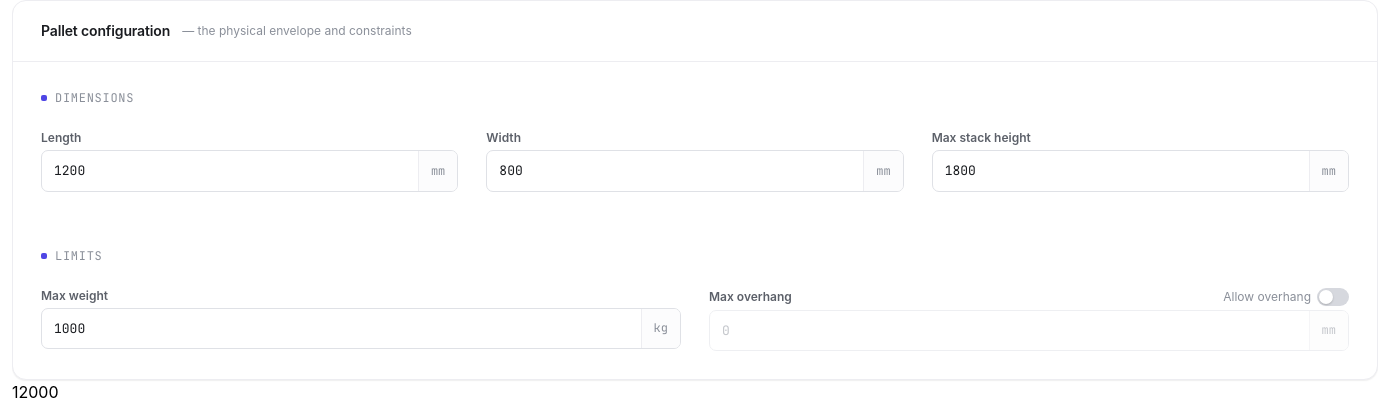
it: PalletCard — Allow-overhang switch gates Max overhang (#3) › toggling ON then OFF zeroes + disables the overhang input again
Click the switch named "Allow overhang". click: (1333, 296)
box: [1317,288,1349,306]
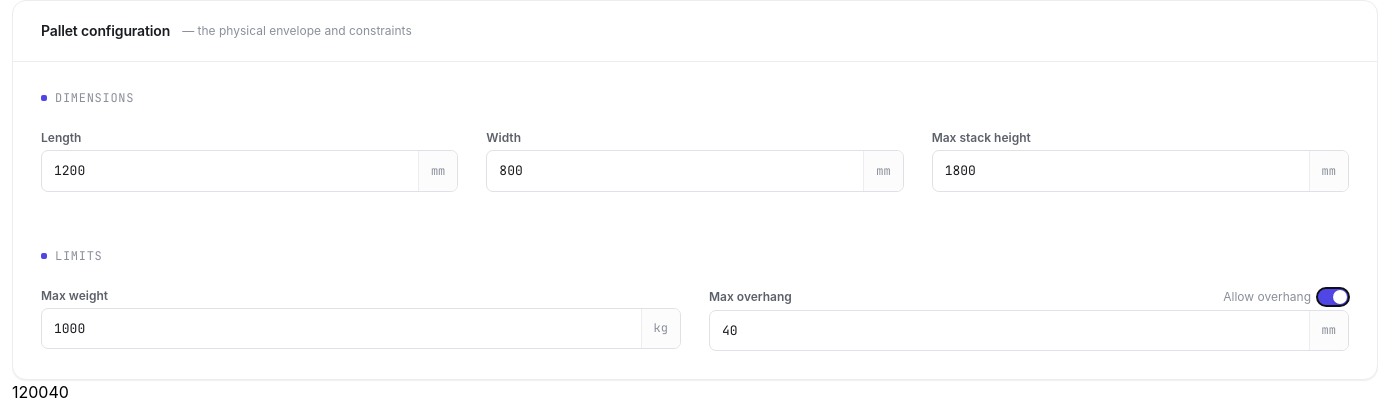
Click the switch named "Allow overhang". click: (1333, 296)
box: [1317,288,1349,306]
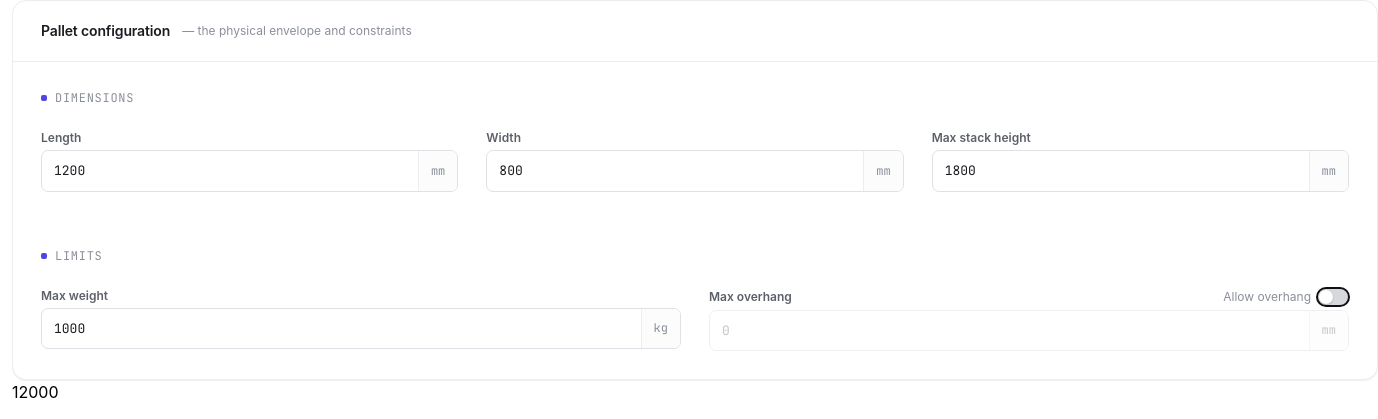
Expected: the number field labelled "Max overhang" is disabled, [710,310,1309,350]
Expected: the text with test id "probe-maxOverhang" reads "0", [48,382,59,402]
